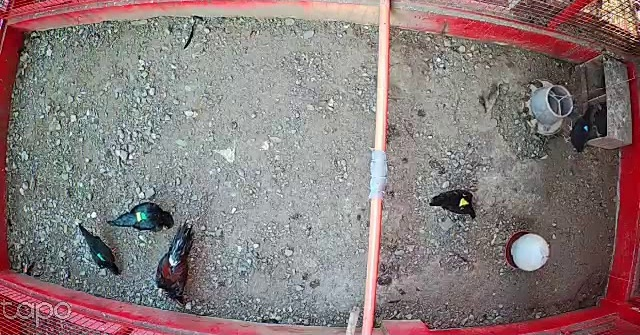Chicken: (108, 197, 180, 235), (75, 220, 123, 276), (559, 100, 600, 154), (428, 190, 486, 222)
Rooster: (155, 214, 199, 309)
Saddle_Color_Blue: (583, 125, 589, 133)
Saddle_Color_Yellow: (460, 198, 472, 211)
Saddle_Color_YellowGreen: (136, 211, 149, 221)
